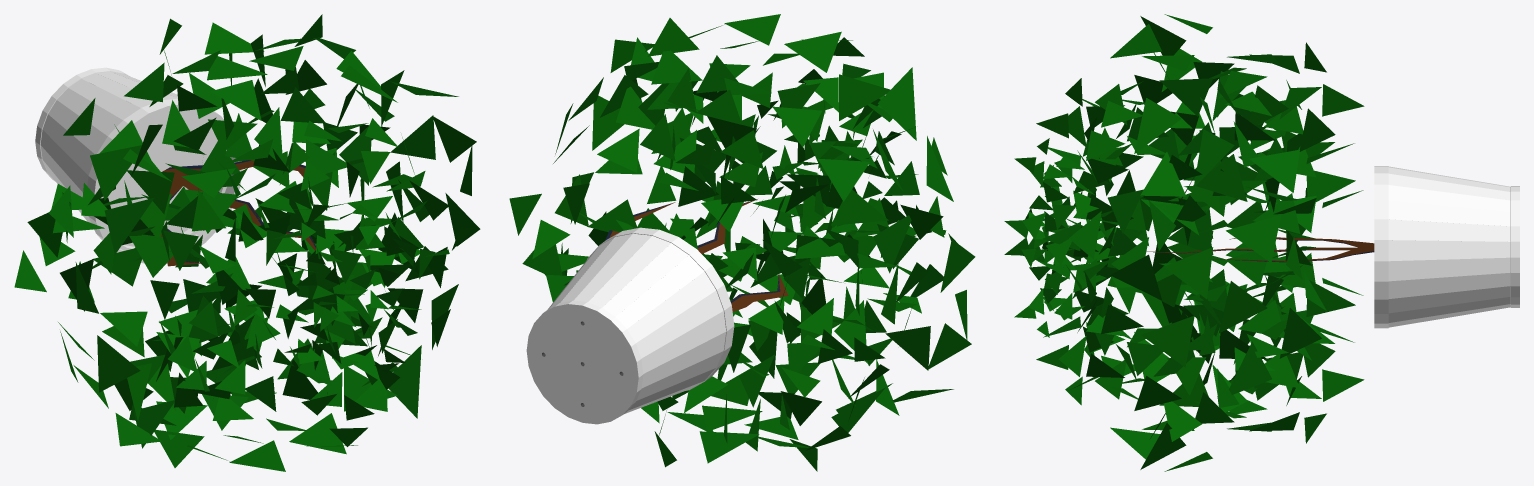
3 renders of one model, left to right at view 1: azimuth 30°, elevation 25°; view 2: azimuth 150°, elevation 25°; view 3: azimuth 270°, elevation 25°, orthographic. The views are drawn at different scales.
Parts seen in each view (by area): view 1: plant potted bush by shomi and alex; view 2: plant potted bush by shomi and alex; view 3: plant potted bush by shomi and alex.
Boxes of the visible parts, box(x1,y1,x2,y2) form: plant potted bush by shomi and alex: box(14, 14, 480, 471); plant potted bush by shomi and alex: box(509, 14, 975, 471); plant potted bush by shomi and alex: box(1004, 14, 1519, 471).
Bounding box in the file's own units: 42.16 × 42.16 × 49.79.
